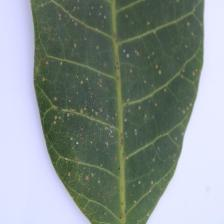red rust: (29, 0, 205, 224)
